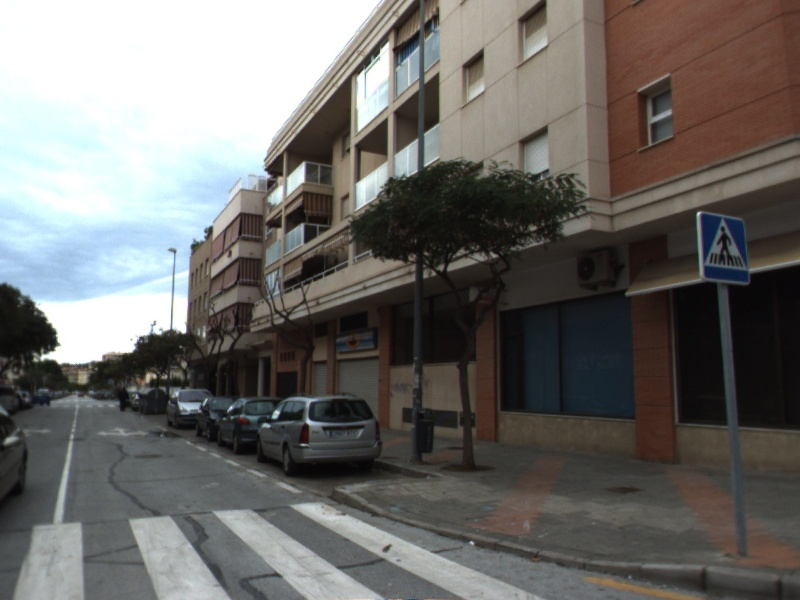STRAIGHT_LEFT_RIGHT: (94, 425, 151, 439)
